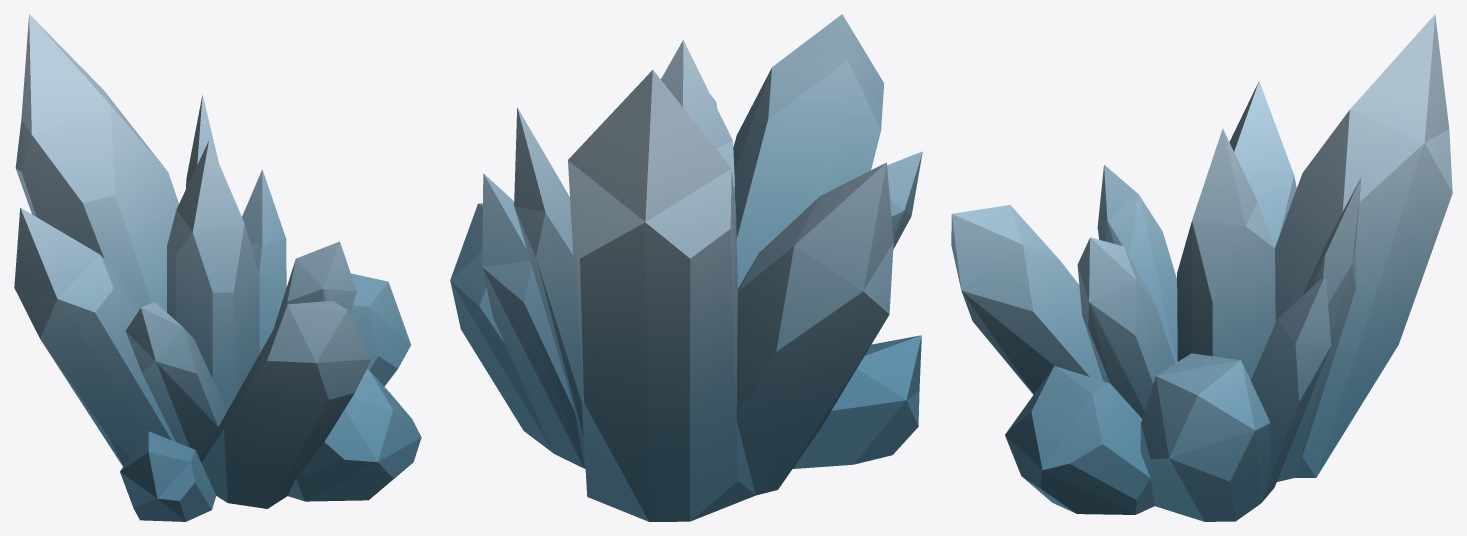
File: Crystal_w.fbx
3 views of the same model, side by side, from view 1: azimuth 30°, elevation 25°; view 2: azimuth 150°, elevation 25°; view 3: azimuth 270°, elevation 25° (orthographic). The views are drawn at different scales.
Parts seen in each view (by area): view 1: Crystal_w; view 2: Crystal_w; view 3: Crystal_w.
Part boxes in pixels (bbox=[...]): Crystal_w: bbox=[14, 14, 421, 521]; Crystal_w: bbox=[450, 14, 922, 521]; Crystal_w: bbox=[951, 14, 1452, 521].
Size of the model in its own units: 71.71 by 77.06 by 85.5.
